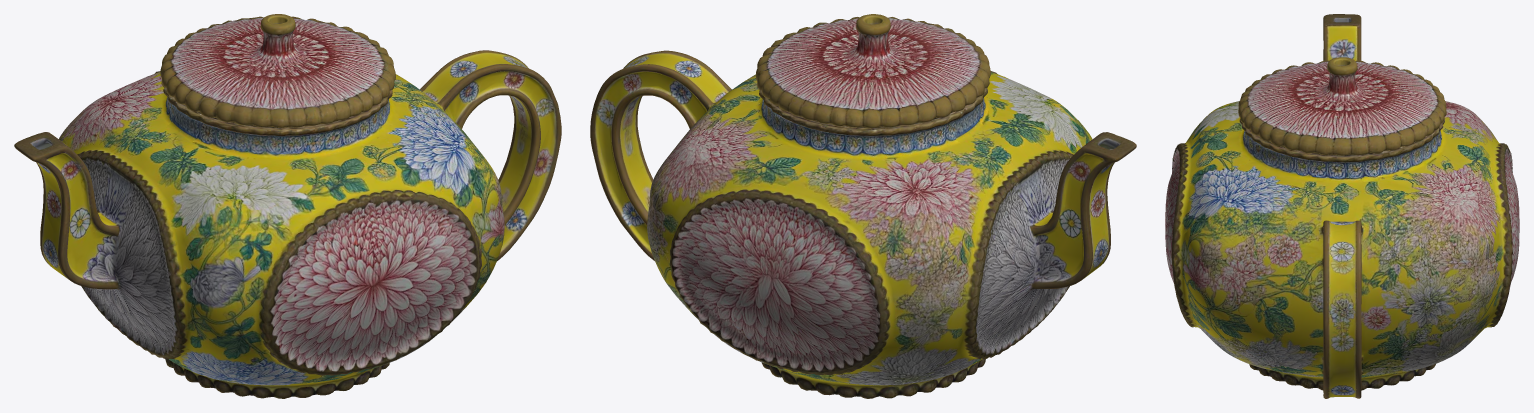
The model's file is 銅胎畫琺瑯菊花紋方壺.glb.
The picture shows the model from 3 angles, left to right: view 1: azimuth 30°, elevation 25°; view 2: azimuth 150°, elevation 25°; view 3: azimuth 270°, elevation 25°; orthographic projection. The views are drawn at different scales.
Parts seen in each view (by area): view 1: tripo_node_e724d816; view 2: tripo_node_e724d816; view 3: tripo_node_e724d816.
Part boxes in pixels (box(x1,y1,x2,y2)): tripo_node_e724d816: box(14, 14, 561, 398); tripo_node_e724d816: box(590, 14, 1136, 398); tripo_node_e724d816: box(1165, 14, 1519, 398).
Bounding box in the file's own units: 97.81 × 58.39 × 65.26.
Materials: 1 (1 with a texture image).
